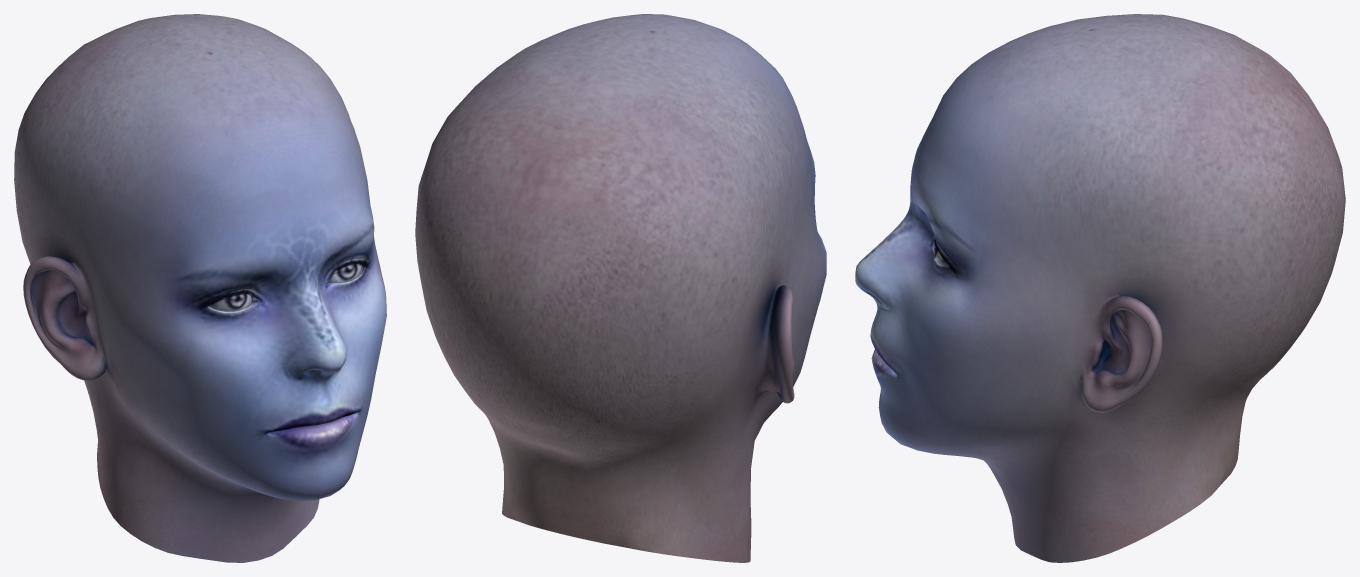
The model's file is female_purple_alien_face_with_blendshapes (1).glb.
The picture shows the model from 3 angles, left to right: view 1: azimuth 30°, elevation 25°; view 2: azimuth 150°, elevation 25°; view 3: azimuth 270°, elevation 25°; orthographic projection. The views are drawn at different scales.
Parts seen in each view (by area): view 1: Head; view 2: Head; view 3: Head.
Boxes of the visible parts, bbox=[...] form: Head: bbox=[14, 14, 386, 562]; Head: bbox=[415, 14, 826, 562]; Head: bbox=[855, 14, 1345, 562].
Size of the model in its own units: 0.1913 by 0.2703 by 0.2373.
Materials: 1 (1 with a texture image).
